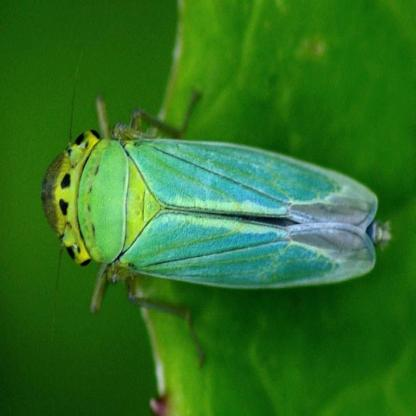Green-Leafhopper: (37, 52, 376, 368)
